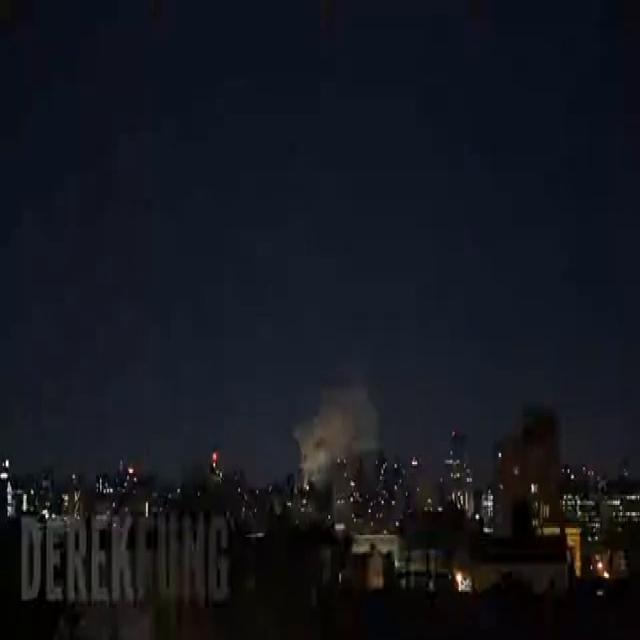smoke: (296, 387, 377, 483)
